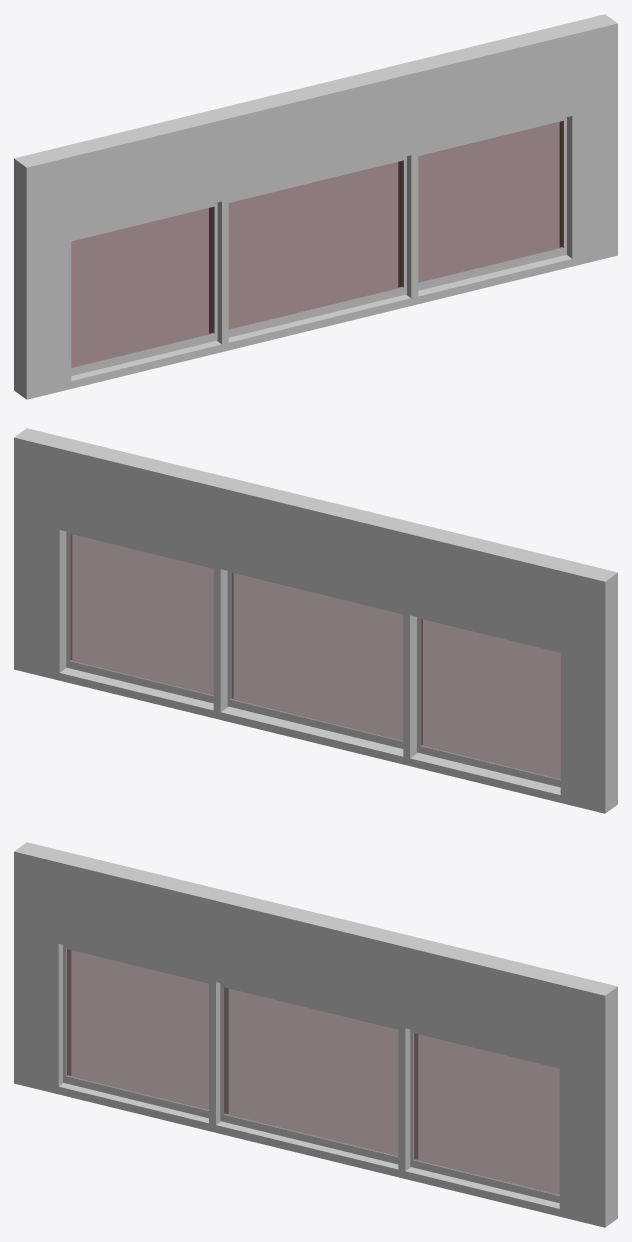
File: Wall With Windows set 9.FBX
3 renders of one model, top to bottom at view 1: azimuth 30°, elevation 25°; view 2: azimuth 150°, elevation 25°; view 3: azimuth 330°, elevation 25°, orthographic.
Visible parts, largest first — view 1: wall with windows set 9; view 2: wall with windows set 9; view 3: wall with windows set 9.
Boxes of the visible parts, x1,y1,x2,y2 form: wall with windows set 9: [14, 14, 617, 399]; wall with windows set 9: [14, 428, 617, 813]; wall with windows set 9: [14, 842, 617, 1227].
Size of the model in its own units: 400 by 150 by 15.
